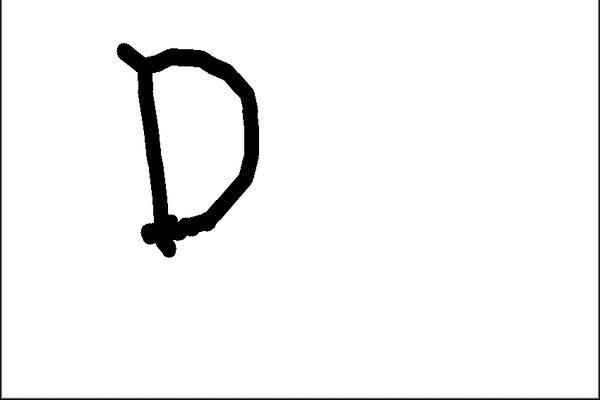D: (112, 35, 269, 262)
